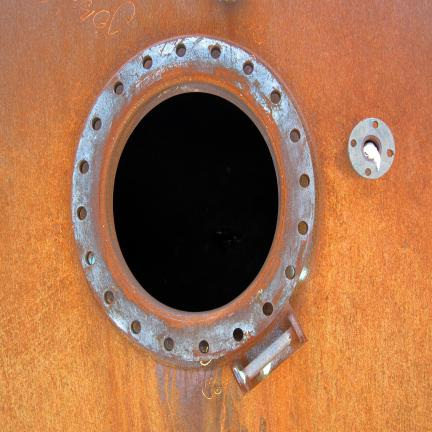besi_tidak_karat: (94, 66, 300, 356)
karat: (0, 0, 199, 431), (200, 87, 432, 430), (101, 70, 291, 331), (72, 0, 432, 94)
